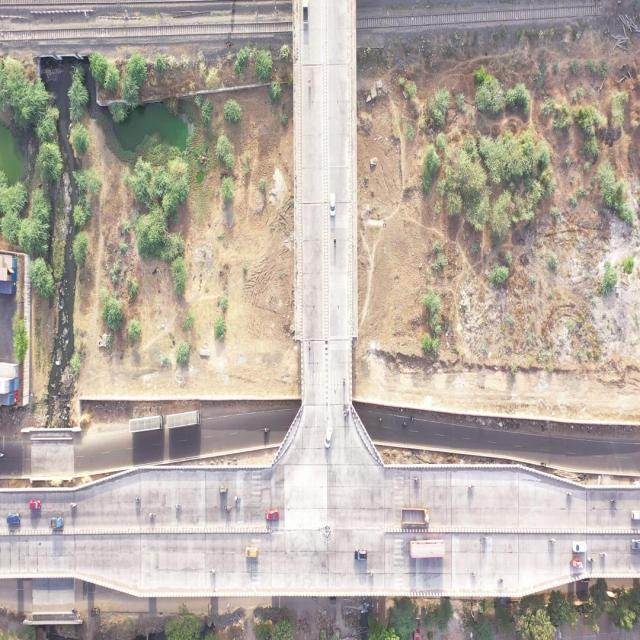3W: (90, 607, 100, 616), (328, 596, 337, 606)
Bus: (409, 538, 446, 559), (128, 414, 164, 434), (166, 410, 201, 429)
Cars: (324, 425, 333, 450), (353, 548, 368, 562), (572, 541, 587, 554), (6, 512, 21, 525), (49, 516, 64, 529), (245, 546, 259, 559), (329, 193, 336, 218), (266, 509, 280, 521), (29, 499, 42, 510), (630, 538, 640, 551), (630, 509, 640, 520)
LCV: (302, 0, 310, 26), (570, 557, 584, 569)
M2W: (586, 556, 596, 563), (598, 551, 608, 558), (148, 512, 157, 519), (469, 570, 477, 577), (134, 496, 142, 503), (368, 569, 375, 577), (480, 535, 489, 541), (548, 538, 557, 544), (343, 409, 347, 422), (610, 497, 617, 504), (263, 426, 270, 433), (234, 495, 241, 502), (209, 568, 216, 575), (333, 236, 337, 248), (414, 476, 420, 483), (468, 483, 474, 490), (497, 577, 504, 583), (566, 492, 573, 498), (408, 415, 415, 421), (402, 420, 408, 427), (71, 608, 78, 614), (174, 504, 182, 509), (308, 338, 311, 351), (308, 77, 311, 90), (540, 460, 546, 466), (70, 502, 76, 508), (225, 506, 232, 511), (347, 406, 350, 417), (343, 376, 346, 387), (378, 417, 384, 422)
MAV: (401, 507, 430, 526)
